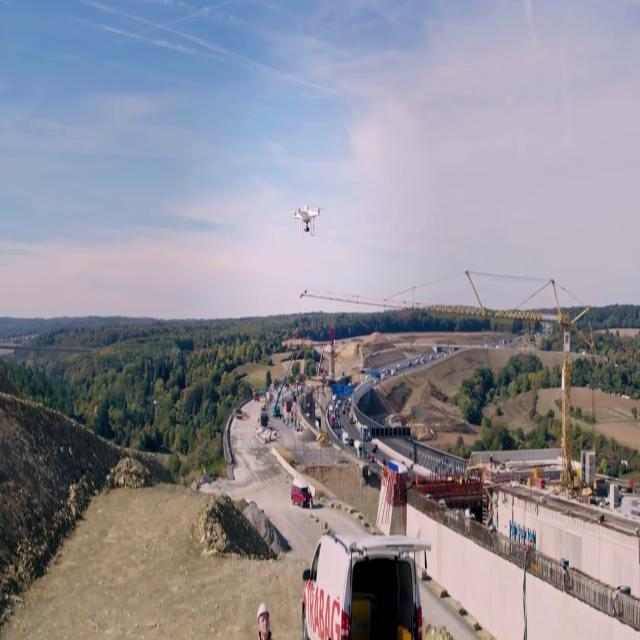drone: (290, 200, 324, 238)
